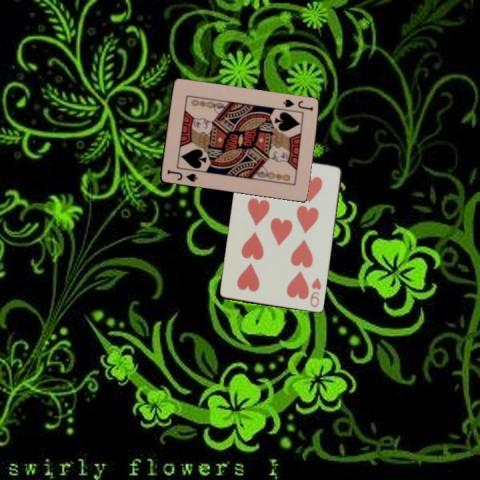9h: (307, 275, 323, 309)
Js: (280, 96, 314, 113), (164, 167, 199, 183)
